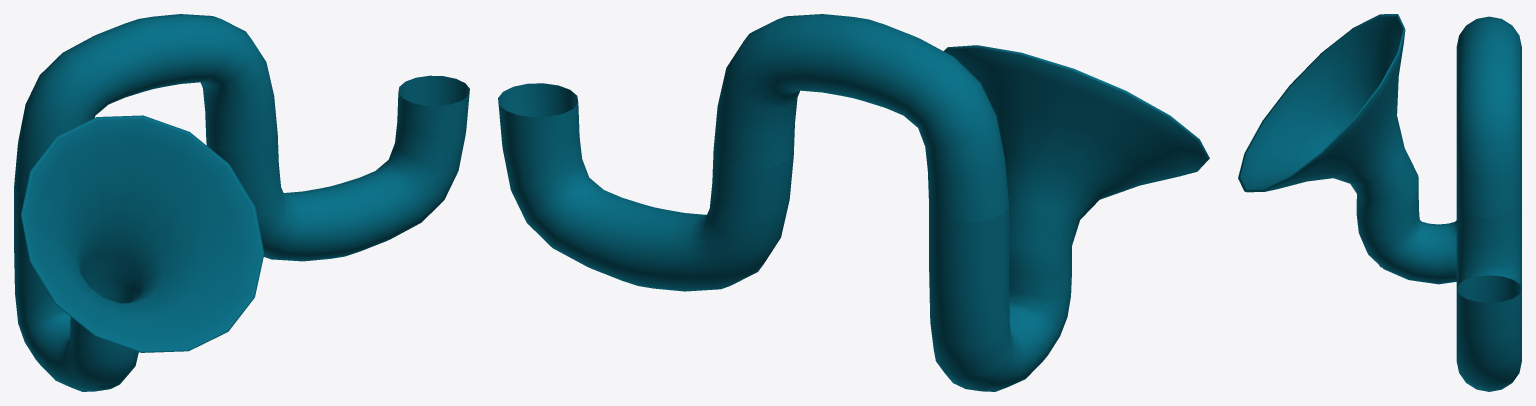
The model's file is IntakeTube_SmoothieMachine.fbx.
3 renders of one model, left to right at view 1: azimuth 30°, elevation 25°; view 2: azimuth 150°, elevation 25°; view 3: azimuth 270°, elevation 25°, orthographic. The views are drawn at different scales.
Parts seen in each view (by area): view 1: IntakeFunnel; view 2: IntakeFunnel; view 3: IntakeFunnel.
Boxes of the visible parts, bbox=[...] form: IntakeFunnel: bbox=[14, 14, 469, 391]; IntakeFunnel: bbox=[498, 14, 1209, 391]; IntakeFunnel: bbox=[1238, 14, 1521, 391].
Bounding box in the file's own units: 109 × 62.94 × 56.21.
